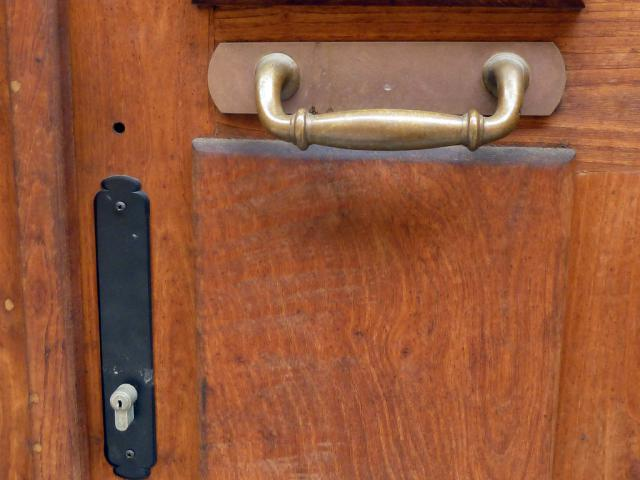Door-handle: (206, 42, 566, 150)
